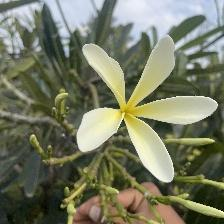champaka: (73, 32, 220, 185)
